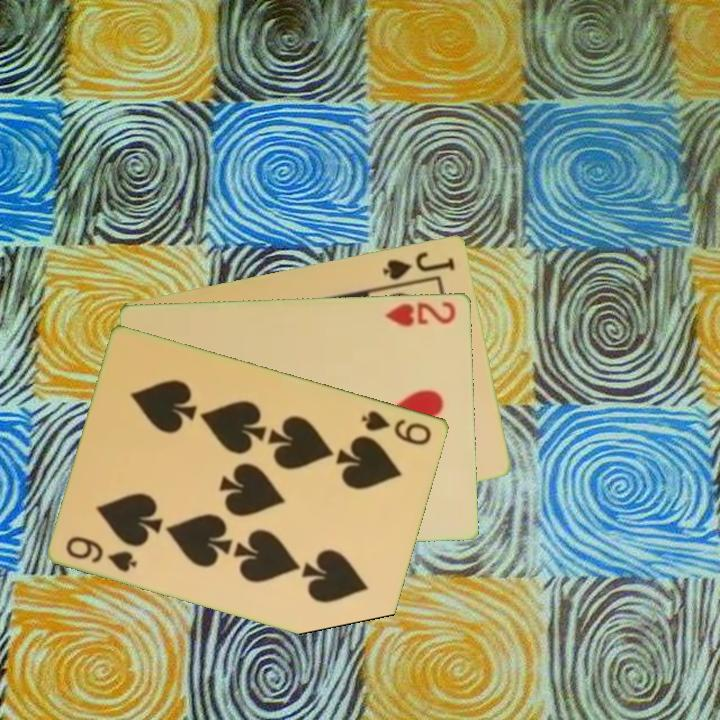2h: (382, 297, 459, 329)
9s: (63, 532, 140, 575), (358, 406, 435, 448)
Js: (379, 247, 458, 283)
